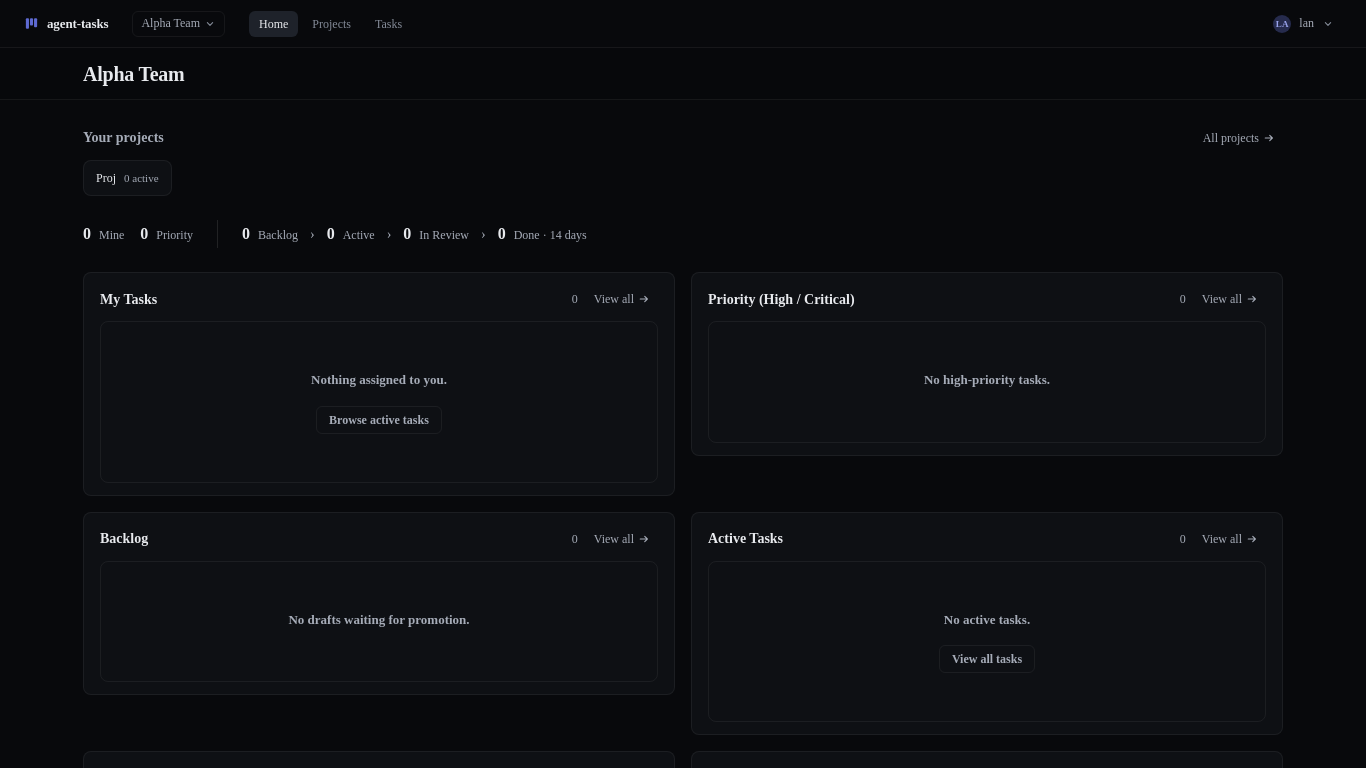
creating a team refreshes the shared list › the header and the new team's Home see the team from one extra request
The width and height of the screenshot is (1366, 768).
Check: the heading "Alpha Team" is shown, box [83, 62, 184, 86]
Click the button with aria-label "Account menu for lan".
click(1304, 24)  # box [1265, 8, 1342, 38]
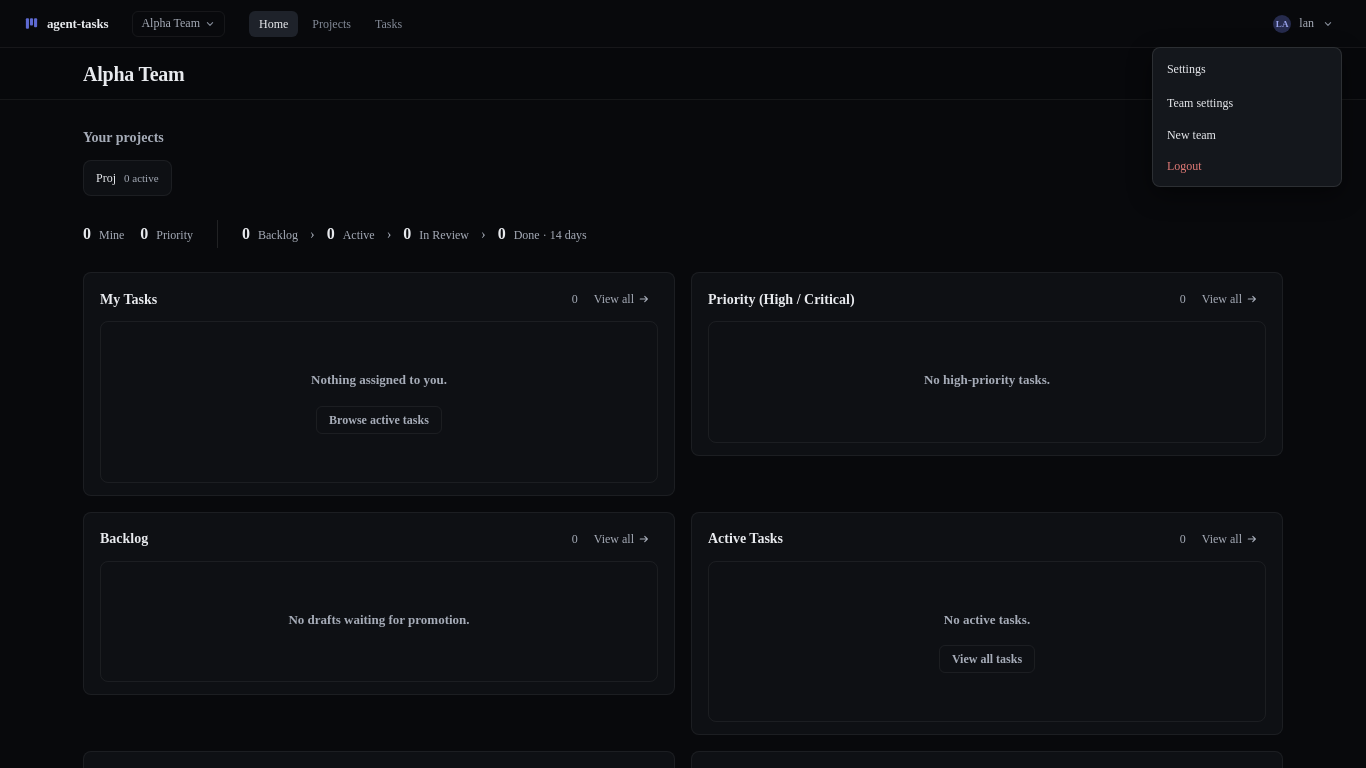
Click the menu item "New team".
click(1247, 135)  # box [1157, 120, 1337, 150]
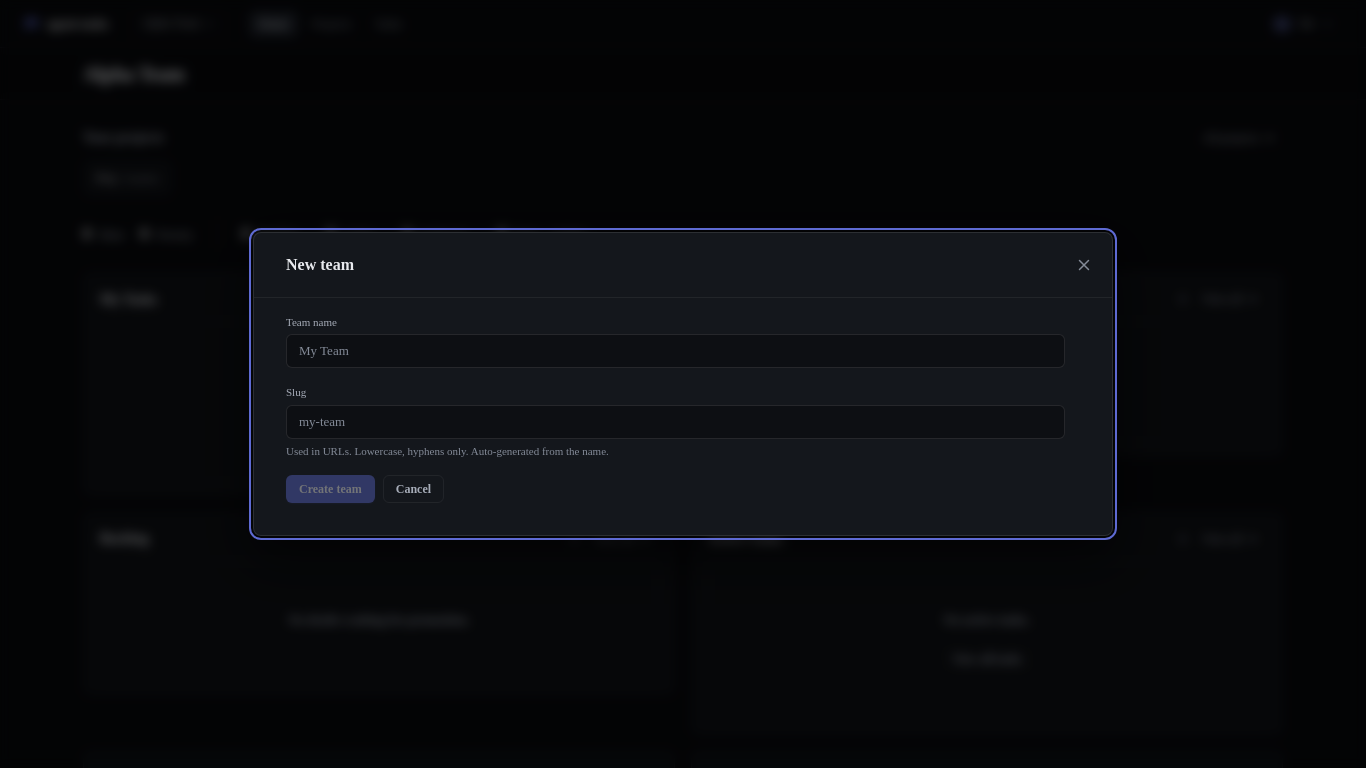
Type "Gamma Team" into the field labelled "Team name".
click(676, 351); type("Gamma Team")  # box [286, 334, 1065, 368]
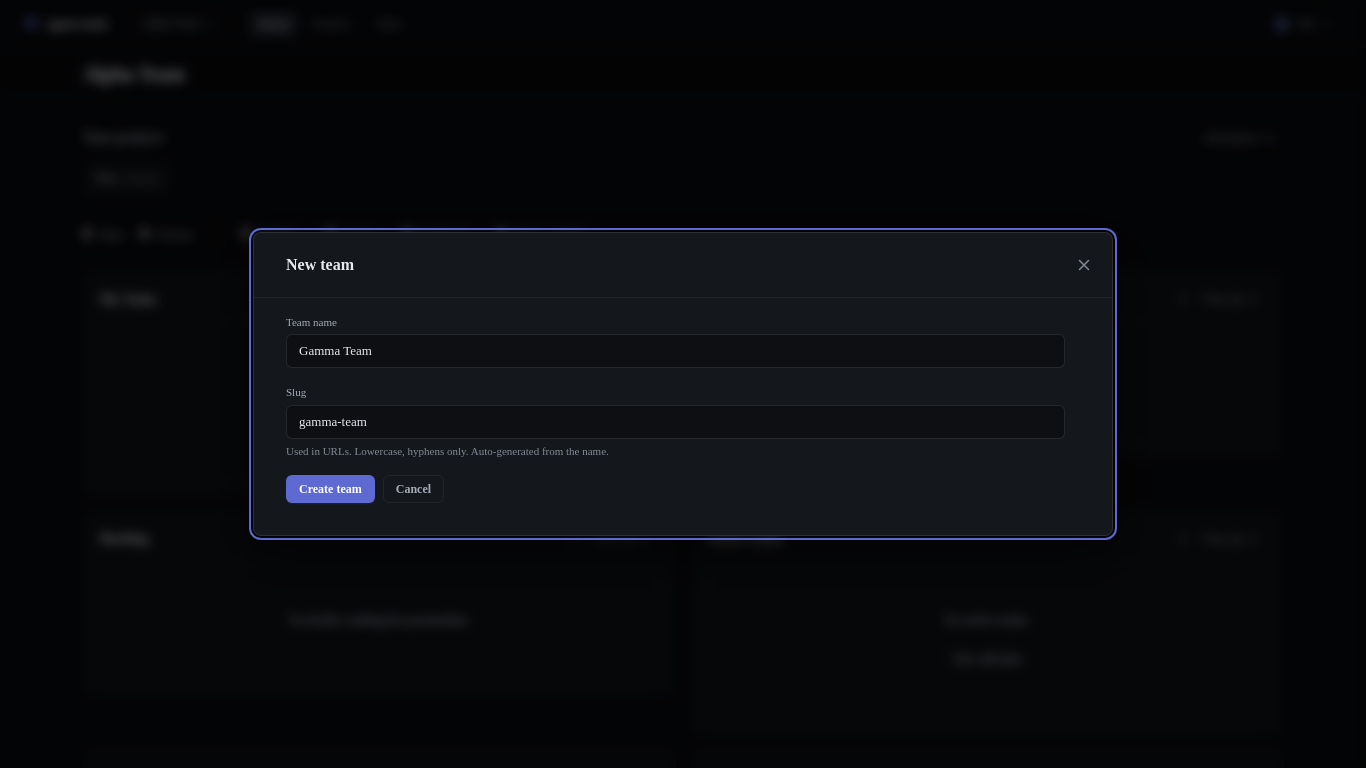
Click the button "Create team".
click(330, 489)  # box [286, 475, 375, 503]
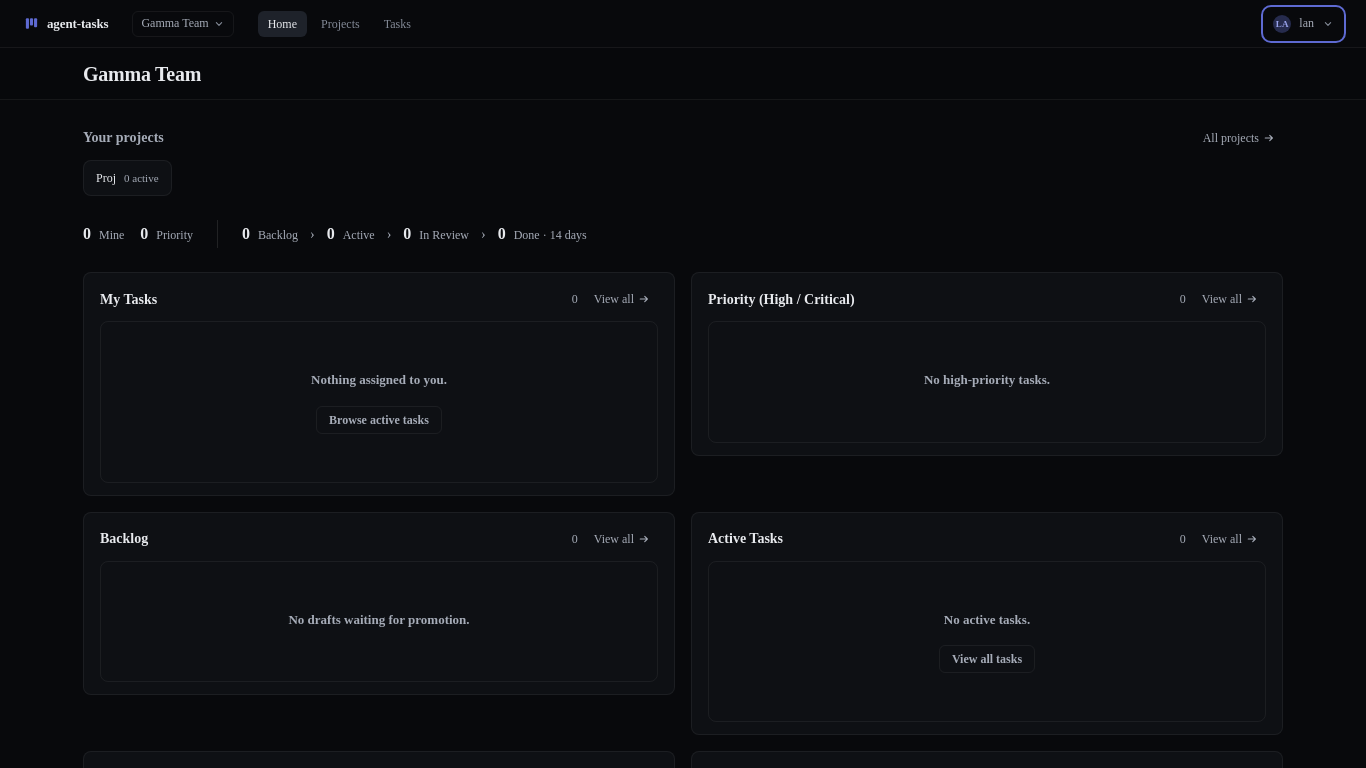
Check: the heading "Gamma Team" is shown, box [83, 62, 201, 86]
Check: the text "Gamma Team" is shown, box [141, 16, 209, 31]
